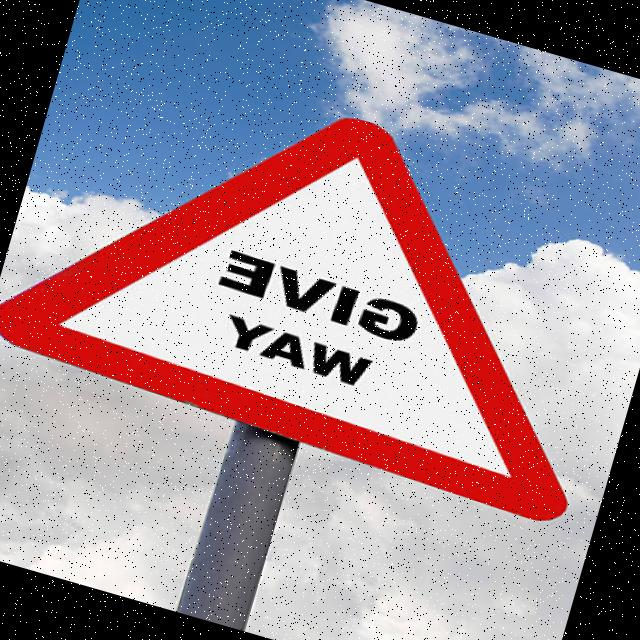give_way: (0, 36, 640, 538)
